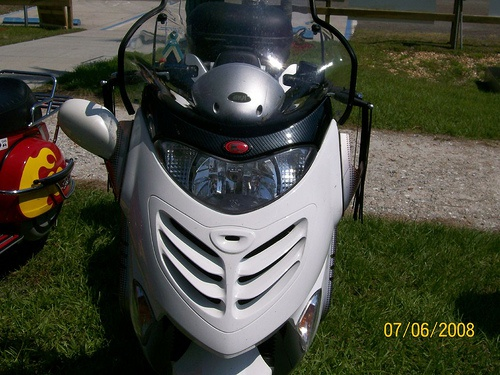non-vehicle: (56, 1, 372, 342), (0, 60, 71, 285)
